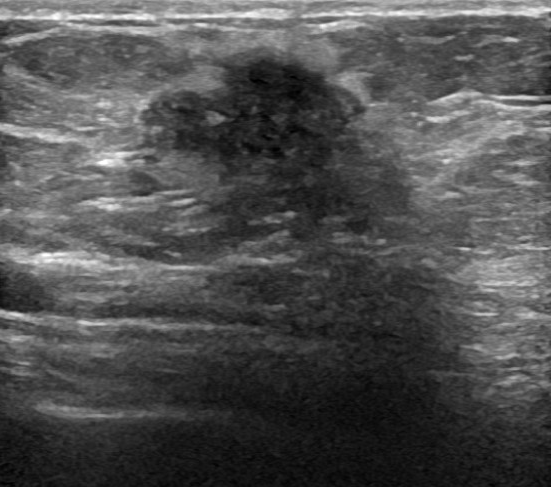Malignant: (158, 44, 337, 188)
